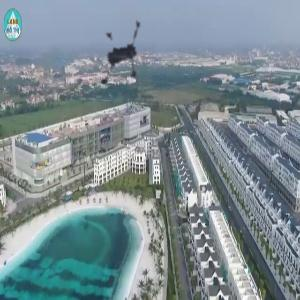drone: (80, 19, 171, 110)
